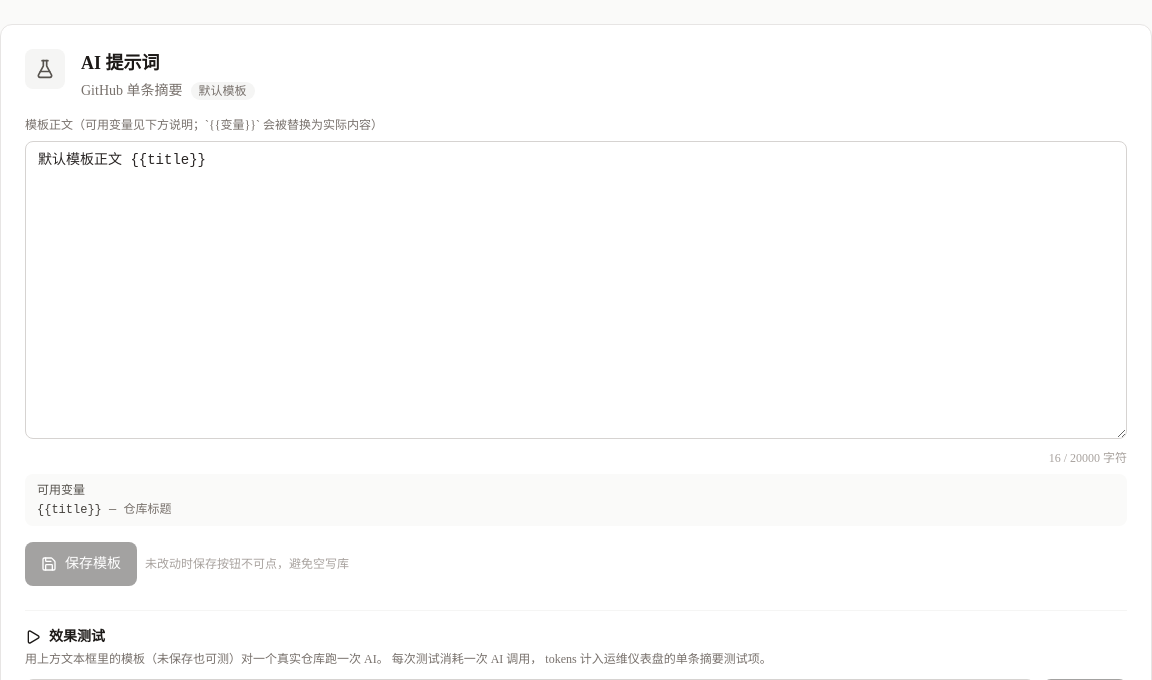
PromptEditor —— 分支覆盖 › 保存失败时优先展示服务端给出的错误文案
Step 1. Replace the text in the text box labelled "模板正文（可用变量见下方说明；`{{变量}}` 会被替换为实际内容）" with "改过的模板" → [576, 290], box [25,141,1127,439]
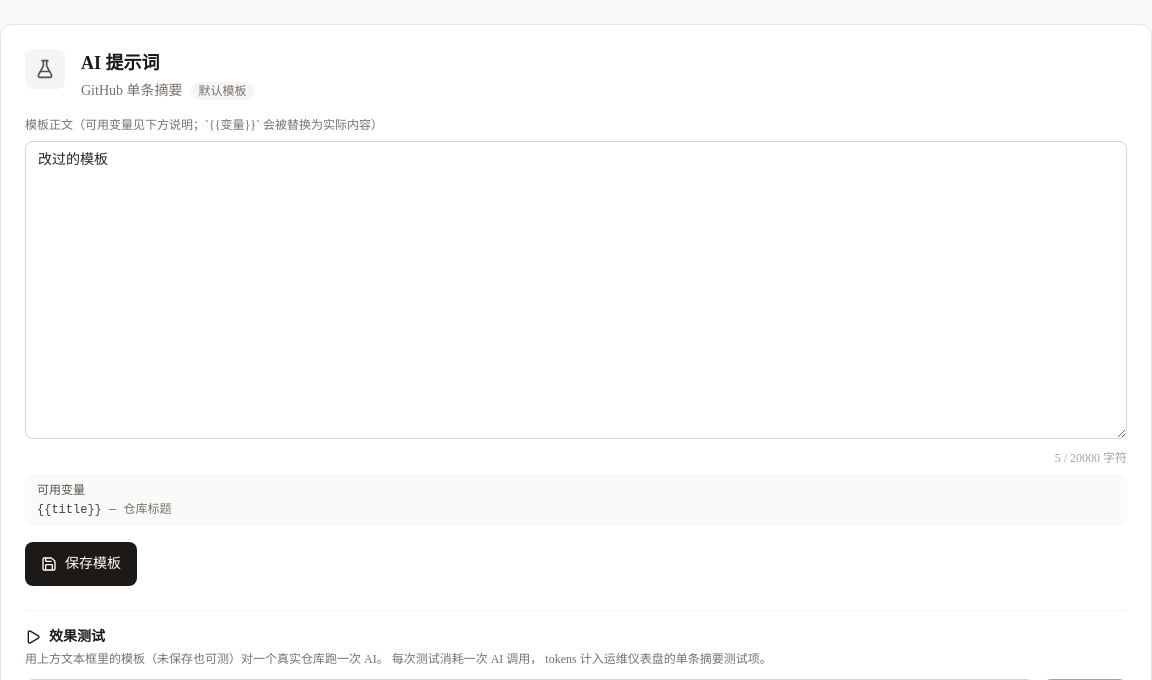
Step 2. Click the button "保存模板" → [81, 564], box [25,542,137,586]
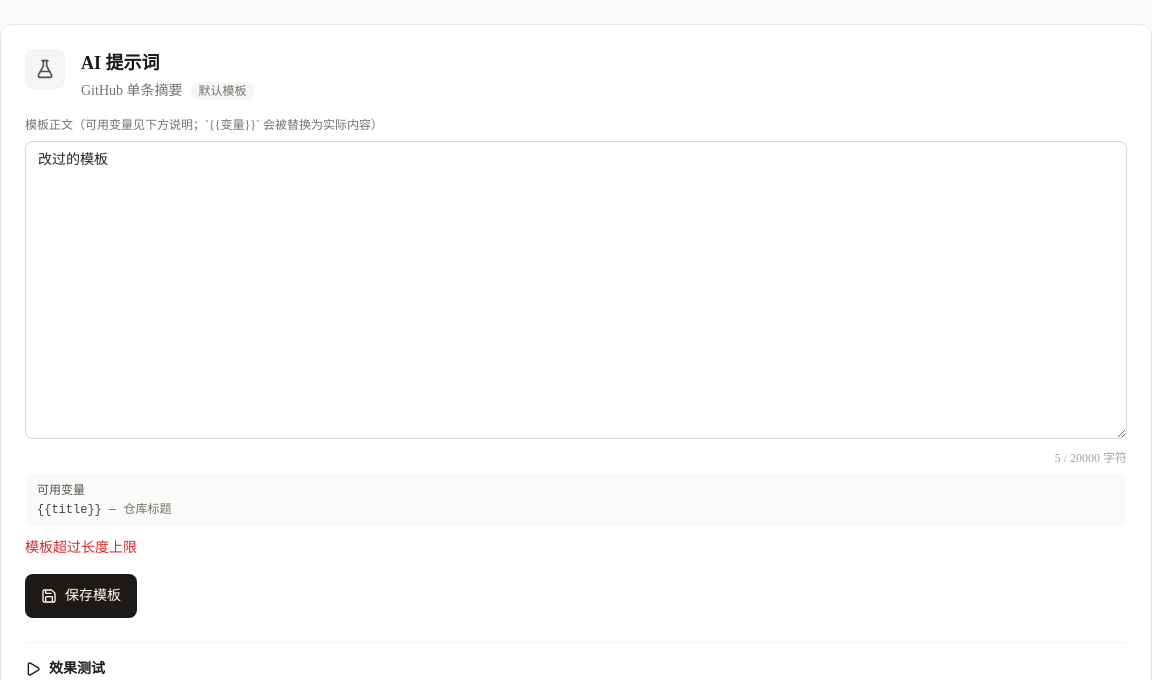
Expected: the text "模板超过长度上限" is shown, [25,540,137,555]
